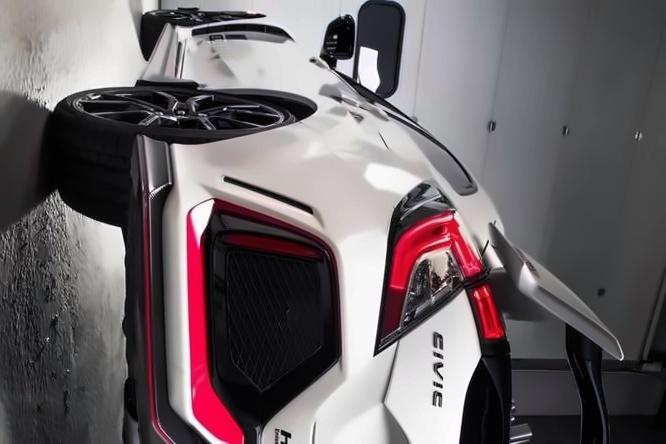Car boot: (289, 273, 512, 444)
Rear bumper: (119, 125, 377, 444)
Rear light - -L-: (372, 180, 509, 358)
Side bumper - -L-: (125, 17, 217, 90)
Side mirror - -L-: (319, 14, 368, 69)
